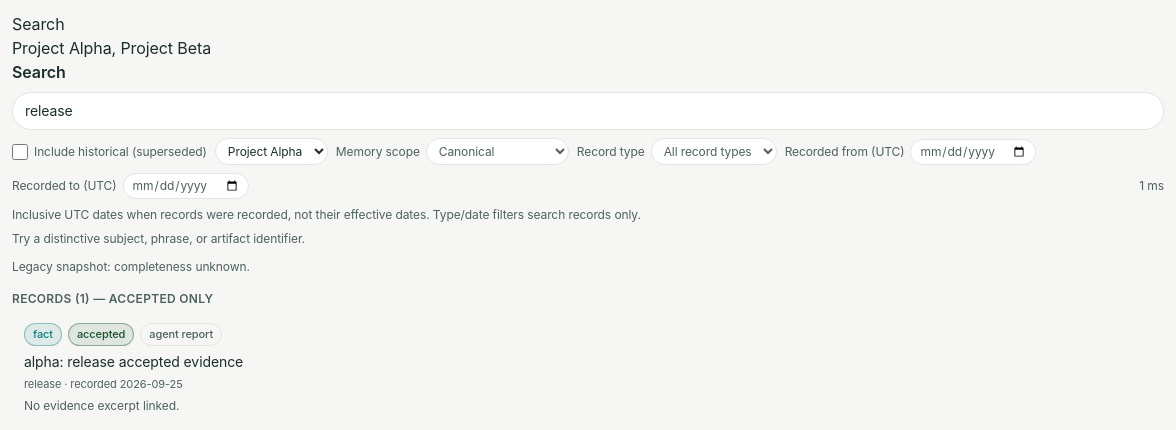
Test: search drafts and router navigation › does not request or render the old query with a new filter while typing (cached=false)
This screenshot has width=1176, height=430.
expect the text "alpha: release accepted evidence" is shown: met, box 24,352 -> 243,370
Replace the text in the search field named "Search memory" with "updated" at (588, 111), box 12,92 -> 1164,130
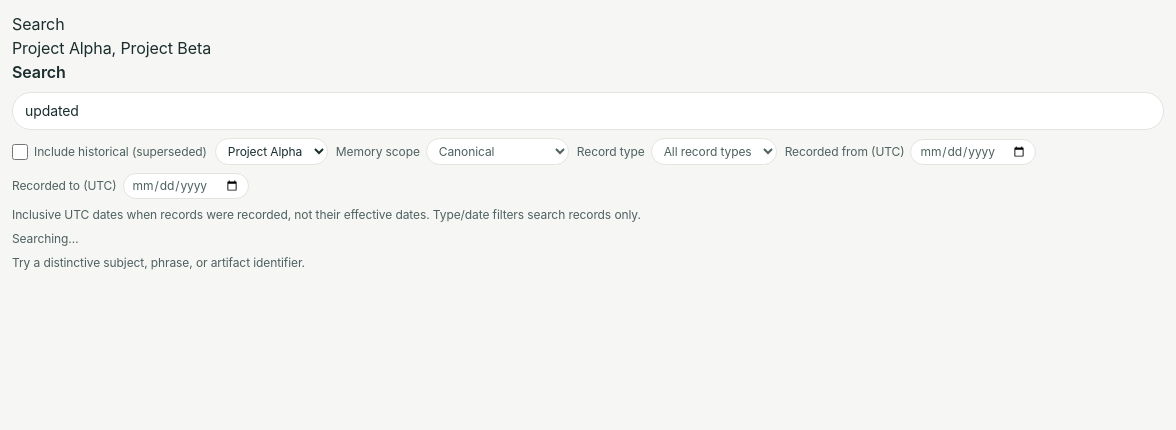
Select "Project Beta" in the dropdown named "Filter by project" at (271, 152), box 215,138 -> 328,165
Wait 300 ms
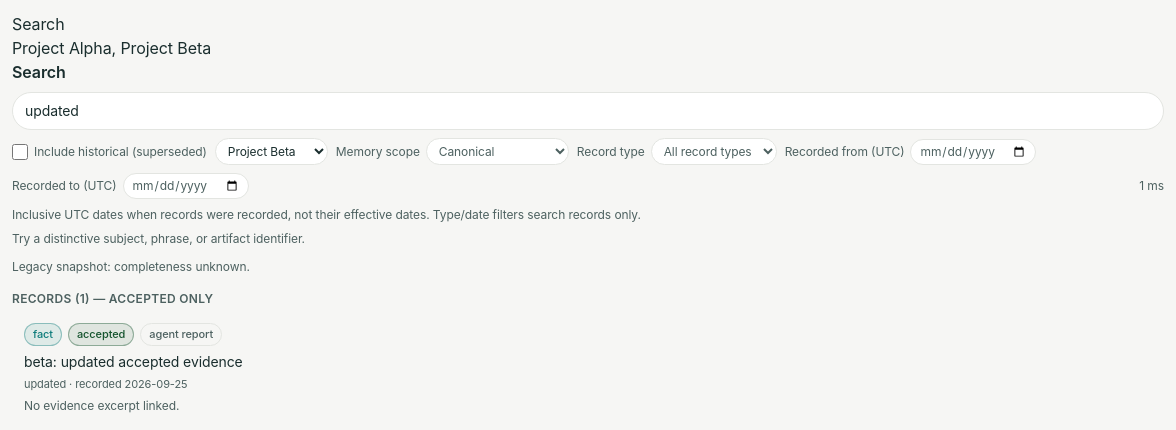
expect the text "alpha: release accepted evidence" is not shown: met
expect the text "beta: updated accepted evidence" is shown: met, box 24,352 -> 243,370
